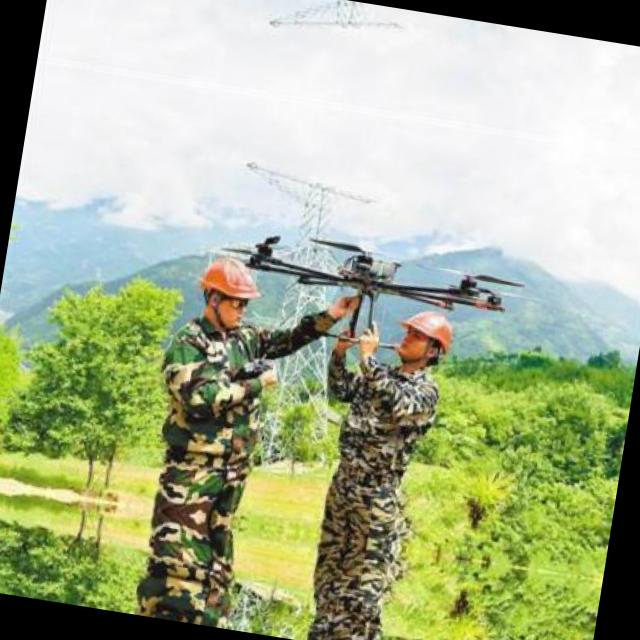helmet: (186, 247, 270, 335), (389, 299, 461, 371)
